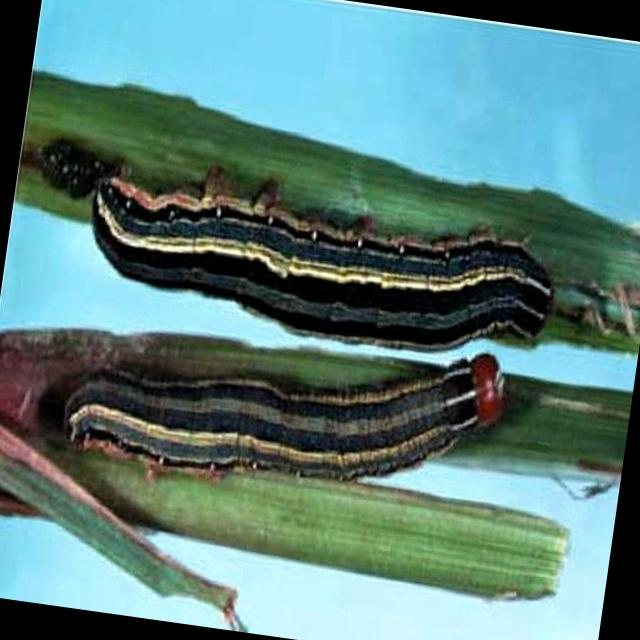pest: (77, 159, 566, 369), (49, 351, 513, 503)
